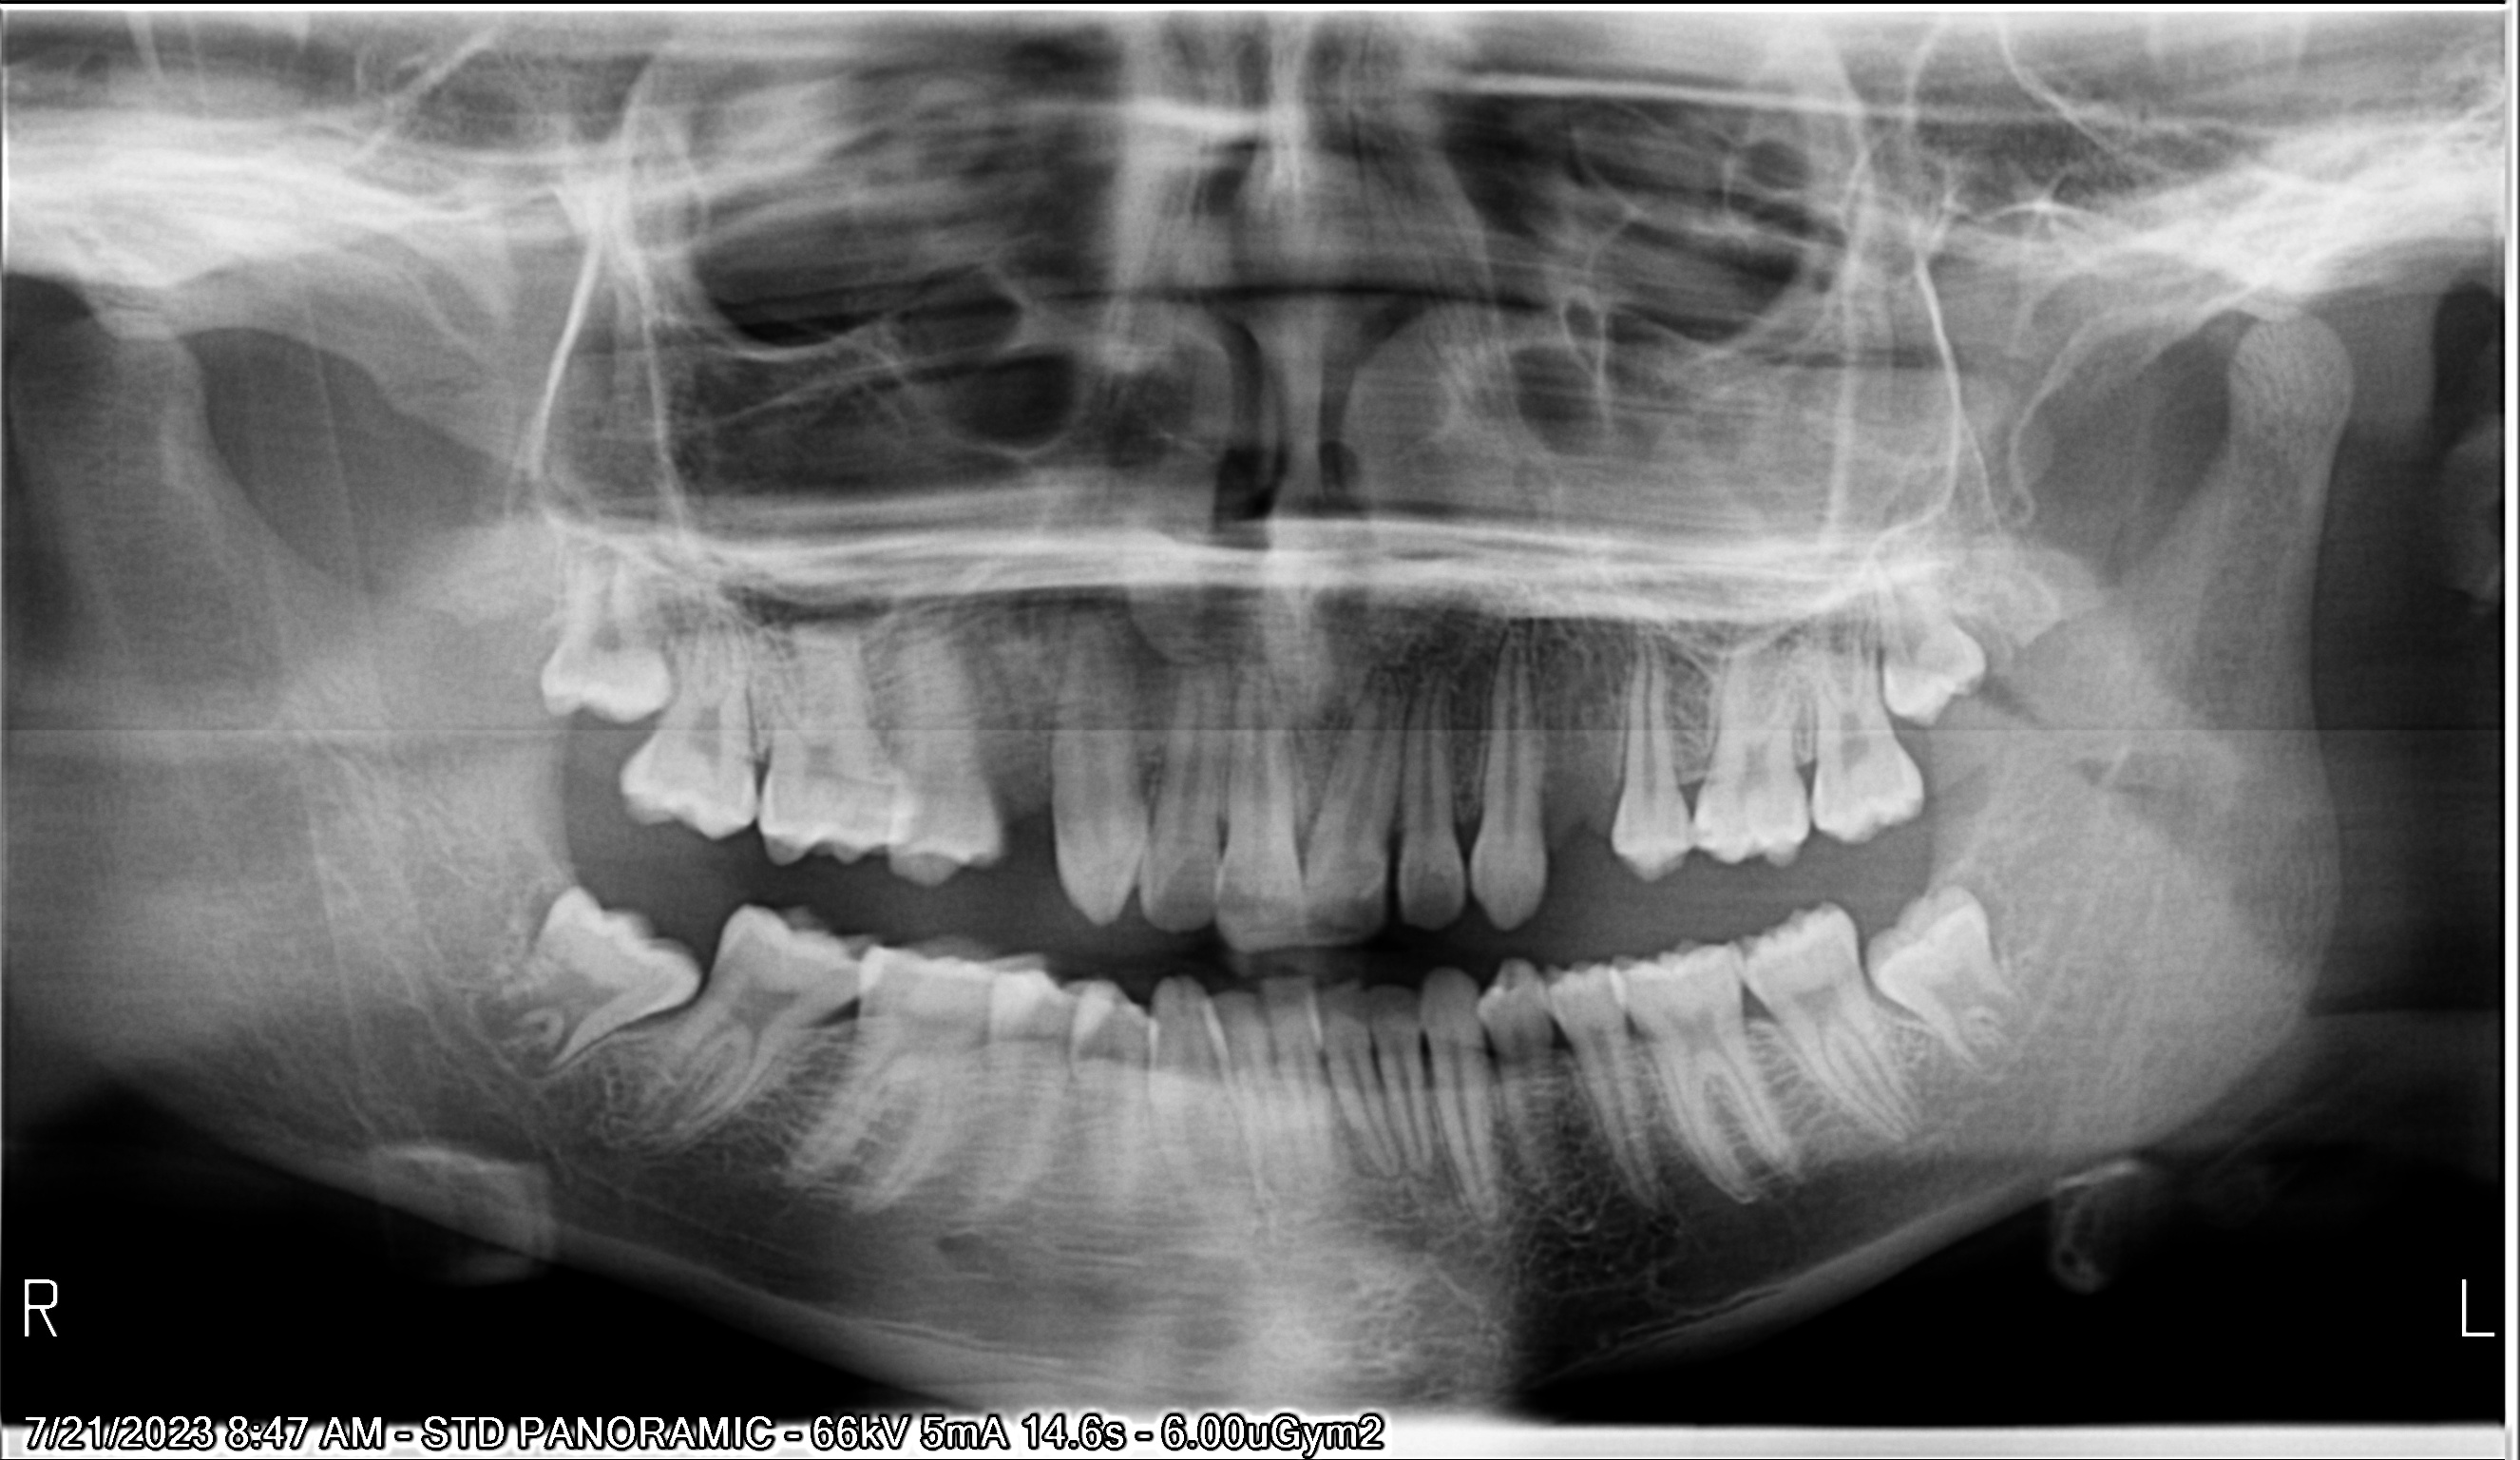CAR: (1702, 826, 1721, 853), (1672, 826, 1688, 855)
IMT: (1872, 892, 2075, 1038), (1869, 537, 2006, 730), (524, 864, 670, 1038), (549, 541, 674, 723)
